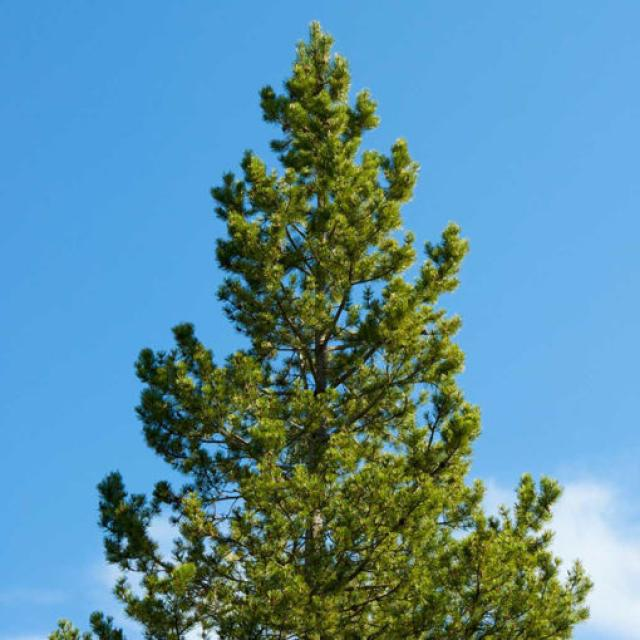Pinus contorta var: (60, 25, 590, 637)
